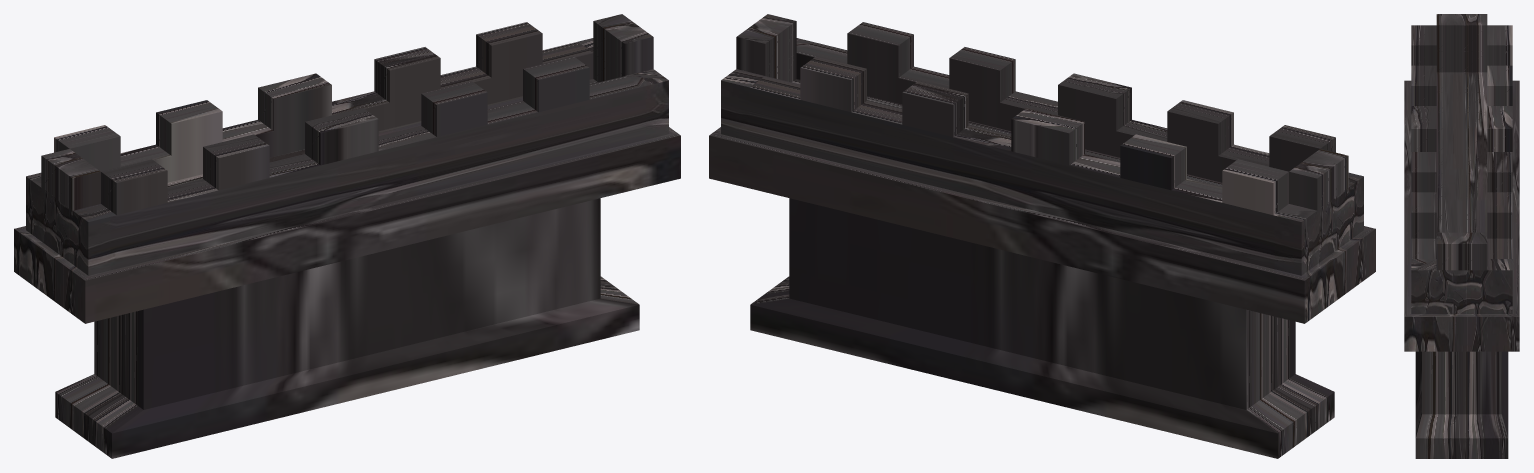
The model's file is field_wall2.FBX.
3 views of the same model, side by side, from view 1: azimuth 30°, elevation 25°; view 2: azimuth 150°, elevation 25°; view 3: azimuth 270°, elevation 25° (orthographic). The views are drawn at different scales.
Visible parts, largest first — view 1: Well_01_005; view 2: Well_01_005; view 3: Well_01_005.
Part boxes in pixels (<box>): Well_01_005: <box>14,14,680,458</box>; Well_01_005: <box>709,14,1375,458</box>; Well_01_005: <box>1404,14,1519,458</box>.
Bounding box in the file's own units: 2.52 × 1.12 × 0.5199.
